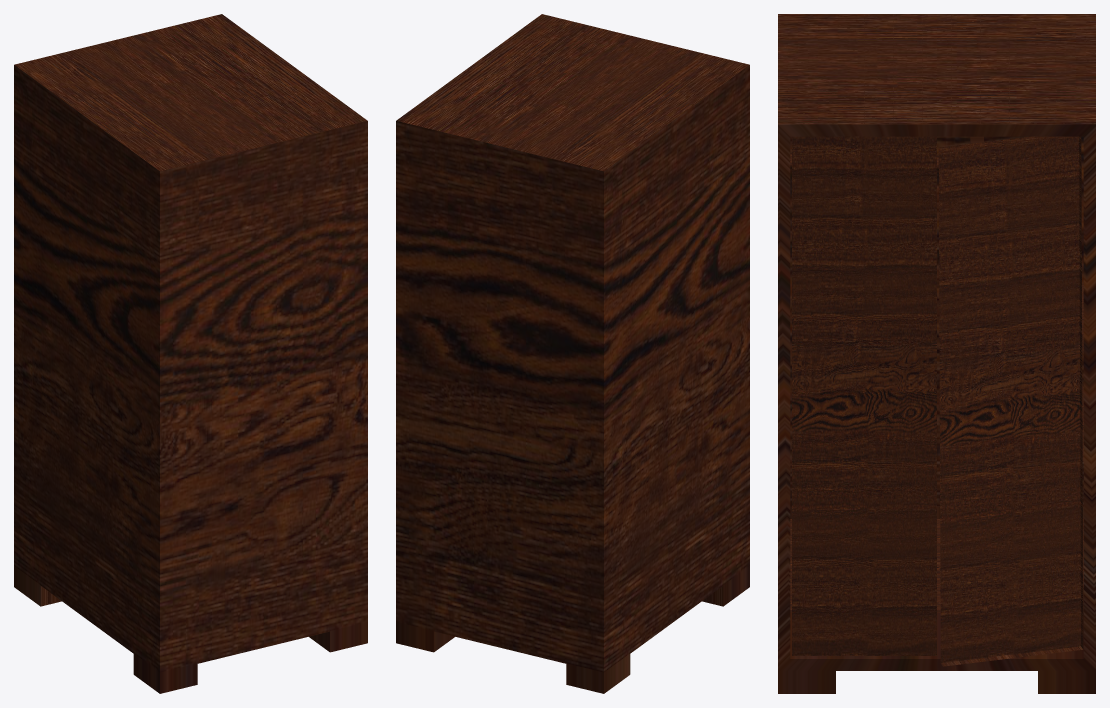
Rendered from wardrobe2.fbx.
3 renders of one model, left to right at view 1: azimuth 30°, elevation 25°; view 2: azimuth 150°, elevation 25°; view 3: azimuth 270°, elevation 25°, orthographic. The views are drawn at different scales.
Parts seen in each view (by area): view 1: Cube; view 2: Cube; view 3: Cube.
Boxes of the visible parts, box(x1,y1,x2,y2) form: Cube: box(14, 14, 367, 693); Cube: box(396, 14, 749, 693); Cube: box(778, 14, 1095, 693).
Size of the model in its own units: 261 by 568 by 287.
1 material, 1 textured.
